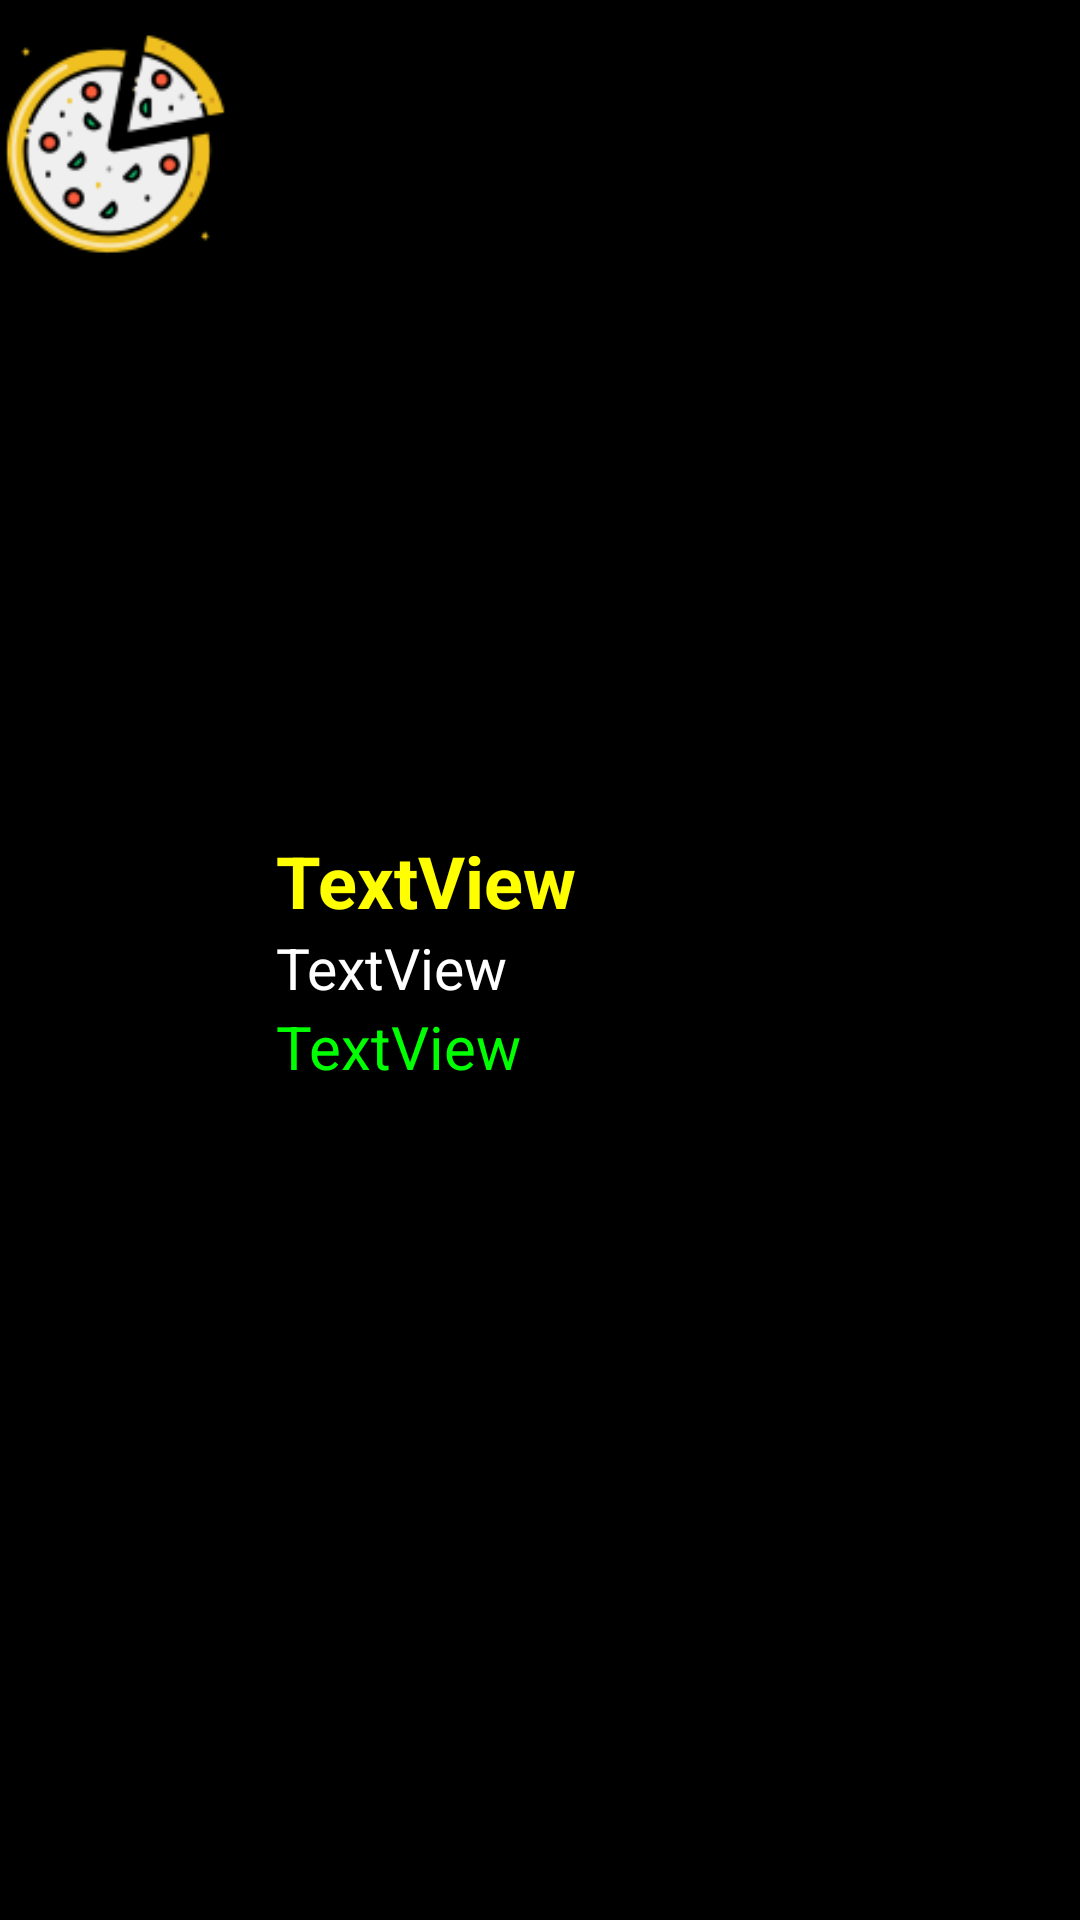

Named icons in this screenshot (1080 × 1920) and their centers, point (x, y):
pizza: point (115, 144)
